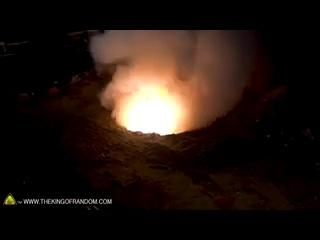Fire: (111, 77, 189, 132)
